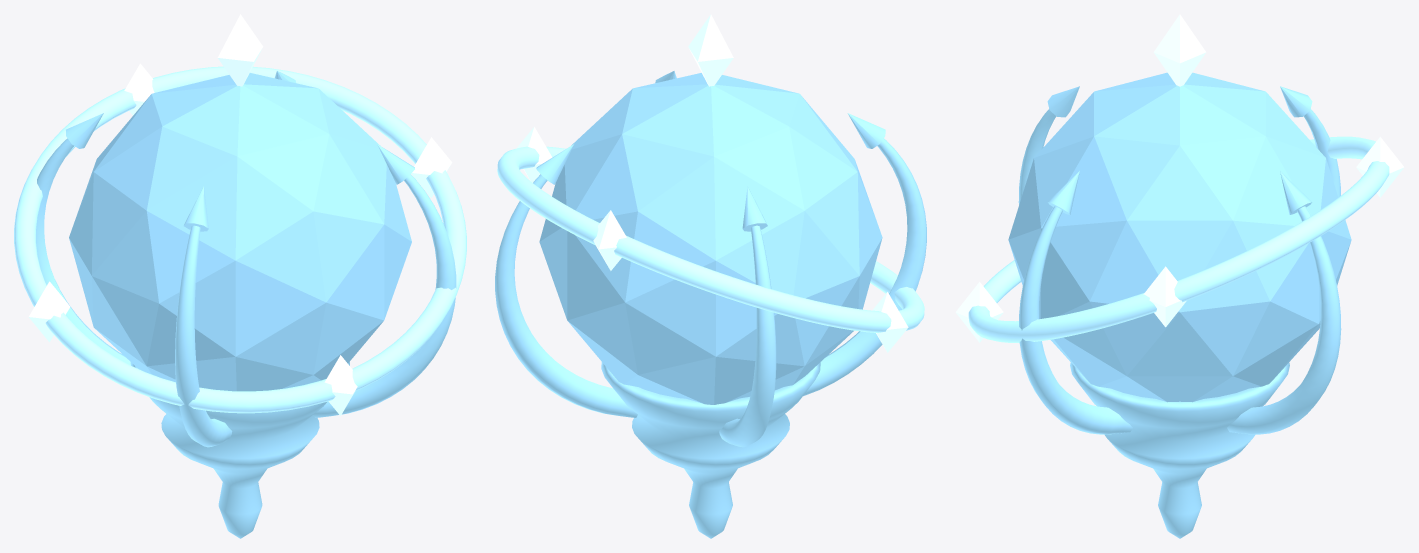
File: bildmaster_orb_solid_v3.glb
3 views of the same model, side by side, from view 1: azimuth 30°, elevation 25°; view 2: azimuth 150°, elevation 25°; view 3: azimuth 270°, elevation 25° (orthographic).
Parts seen in each view (by area): view 1: orb; view 2: orb; view 3: orb.
Part boxes in pixels (x1=…): orb: x1=14, y1=14, x2=466, y2=538; orb: x1=495, y1=14, x2=926, y2=538; orb: x1=955, y1=14, x2=1404, y2=538.
Size of the model in its own units: 0.2148 by 0.2632 by 0.204.
